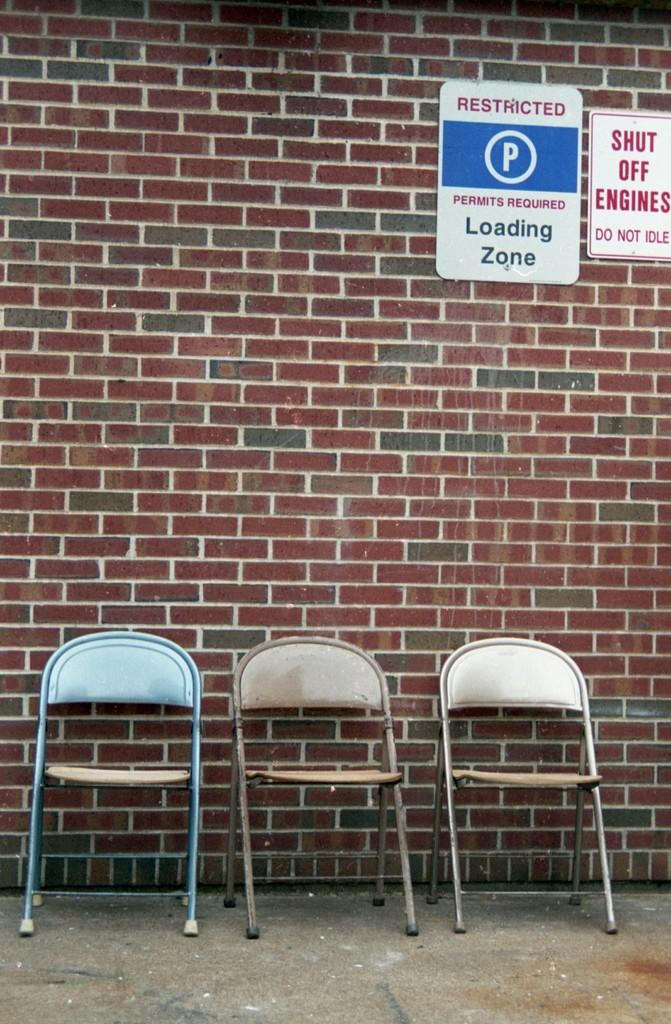Chair: (223, 636, 417, 941), (429, 645, 627, 942), (20, 627, 200, 938)
